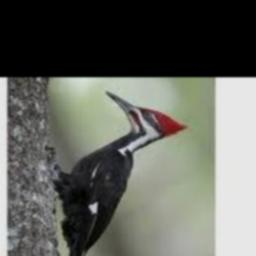Woodpecker: (53, 91, 189, 256)
